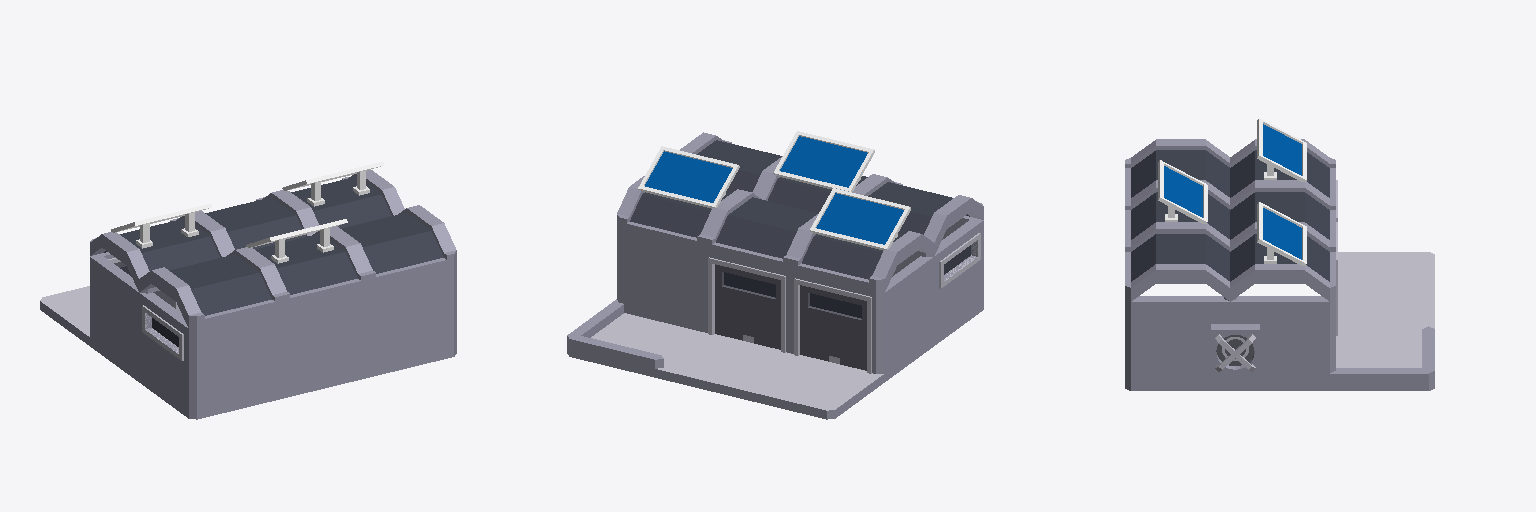
The model's file is FuelDepot.obj.
3 renders of one model, left to right at view 1: azimuth 30°, elevation 25°; view 2: azimuth 150°, elevation 25°; view 3: azimuth 270°, elevation 25°, orthographic.
Size of the model in its own units: 3.34 by 1.64 by 3.12.